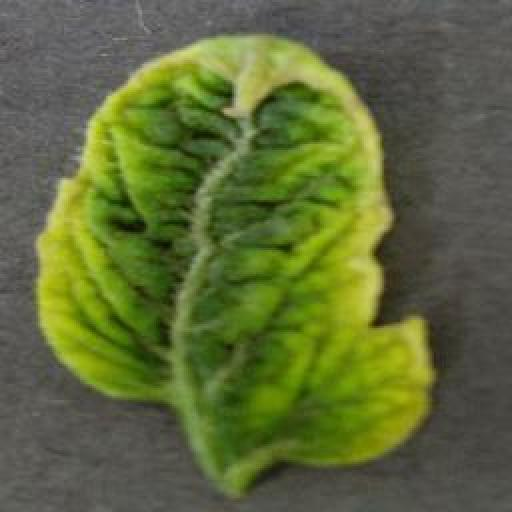Yellow Leaf Curl Virus: (34, 35, 435, 469)
